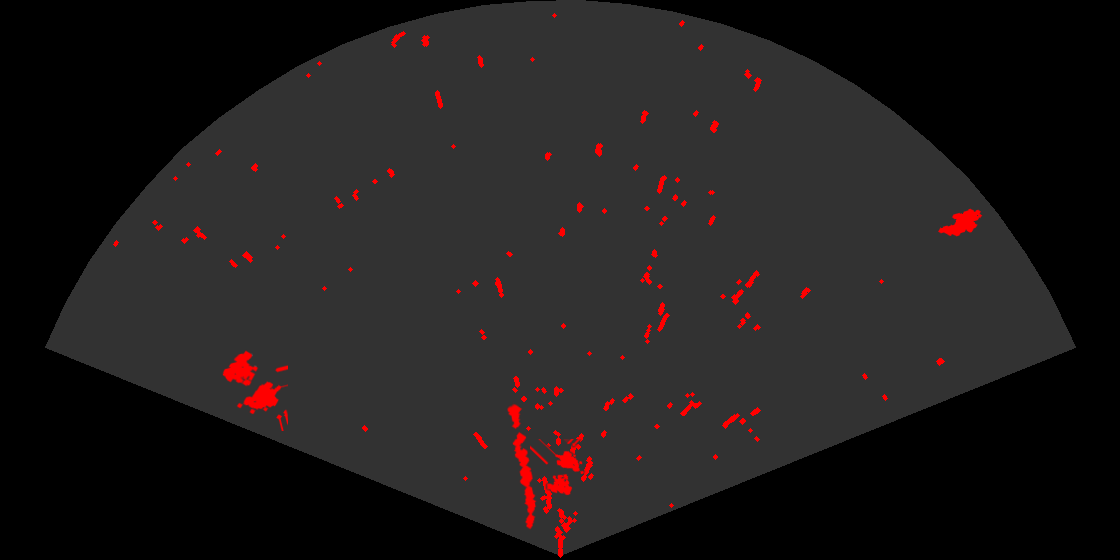AUV: (937, 207, 984, 238)
cage: (221, 349, 288, 431), (530, 439, 586, 497)
chain: (506, 401, 538, 531)
